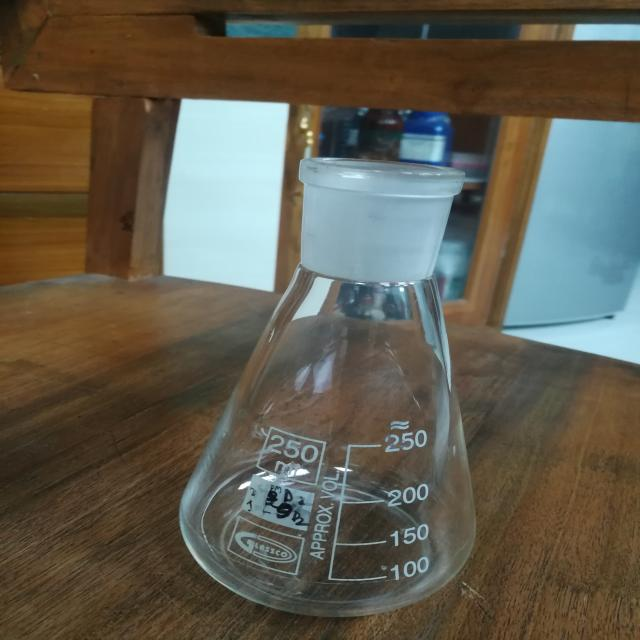Conical_Flask: (153, 90, 526, 640)
